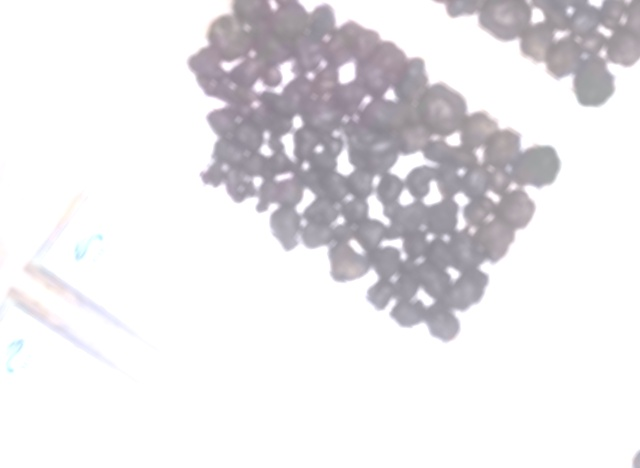halobolite: (235, 22, 288, 80), (507, 139, 563, 190), (327, 17, 370, 81), (466, 213, 525, 258), (473, 100, 526, 145), (289, 8, 328, 66), (371, 42, 409, 94), (239, 95, 288, 135), (439, 271, 488, 309), (208, 155, 252, 196), (400, 166, 451, 201), (204, 117, 244, 160), (201, 38, 240, 82), (429, 88, 476, 124), (398, 73, 441, 111), (306, 207, 346, 246), (489, 139, 527, 180), (401, 204, 449, 236), (291, 80, 331, 116), (353, 153, 385, 196), (327, 248, 359, 289), (397, 138, 442, 167), (368, 276, 402, 314), (390, 113, 420, 156), (389, 296, 424, 332), (258, 175, 295, 209), (335, 211, 370, 246), (272, 215, 310, 246), (345, 87, 375, 126), (474, 155, 505, 191), (433, 309, 466, 341), (302, 127, 333, 159), (360, 196, 393, 226), (323, 166, 357, 193), (403, 266, 431, 294), (328, 146, 353, 171), (380, 180, 406, 204), (425, 121, 449, 145), (376, 235, 399, 258)
